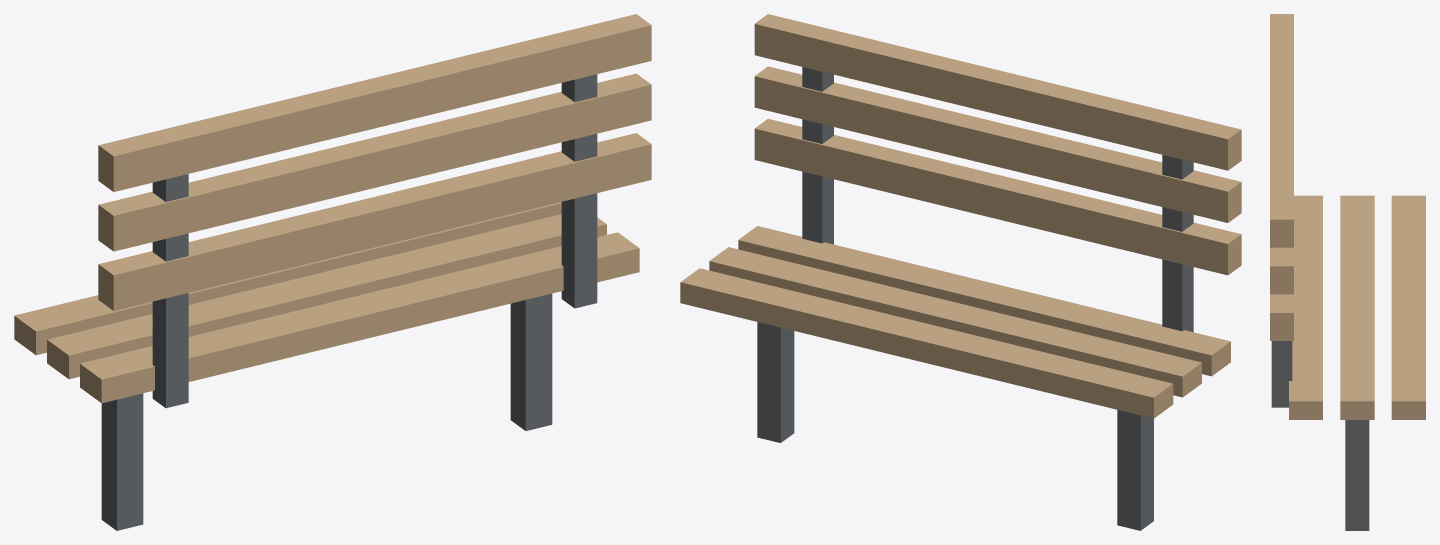
The model's file is bench_01.glb.
3 renders of one model, left to right at view 1: azimuth 30°, elevation 25°; view 2: azimuth 150°, elevation 25°; view 3: azimuth 270°, elevation 25°, orthographic. The views are drawn at different scales.
Visible parts, largest first — view 1: back2, back0, back1, slat0.15, slat0.0, slat-0.15, leg-0.5396, leg0.5396, backpost0.5396, backpost-0.5396; view 2: back2, back0, back1, slat-0.15, slat0.0, slat0.15, leg0.5396, leg-0.5396, backpost0.5396, backpost-0.5396; view 3: slat0.0, slat-0.15, slat0.15, back2, leg0.5396, backpost0.5396, back1, back0.
Boxes of the visible parts, x1,y1,x2,y2 form: back2: [98, 14, 651, 191]; back0: [98, 133, 651, 310]; back1: [98, 73, 651, 251]; slat0.15: [80, 232, 639, 403]; slat0.0: [47, 214, 606, 379]; slat-0.15: [14, 202, 561, 355]; leg-0.5396: [101, 393, 143, 530]; leg0.5396: [510, 293, 552, 430]; backpost0.5396: [561, 74, 597, 308]; backpost-0.5396: [152, 174, 188, 408]; back2: [754, 14, 1241, 170]; back0: [754, 118, 1241, 275]; back1: [754, 66, 1241, 222]; slat-0.15: [680, 268, 1173, 418]; slat0.0: [709, 247, 1201, 397]; slat0.15: [738, 226, 1230, 376]; leg0.5396: [757, 322, 794, 442]; leg-0.5396: [1117, 410, 1153, 530]; backpost0.5396: [802, 67, 833, 244]; backpost-0.5396: [1162, 155, 1193, 332]; slat0.0: [1340, 195, 1374, 419]; slat-0.15: [1391, 195, 1425, 419]; slat0.15: [1289, 195, 1322, 419]; back2: [1270, 14, 1293, 247]; leg0.5396: [1345, 420, 1369, 530]; backpost0.5396: [1271, 341, 1292, 407]; back1: [1270, 247, 1293, 294]; back0: [1270, 294, 1293, 340].
Size of the model in its own units: 1.42 by 1.07 by 0.455.
